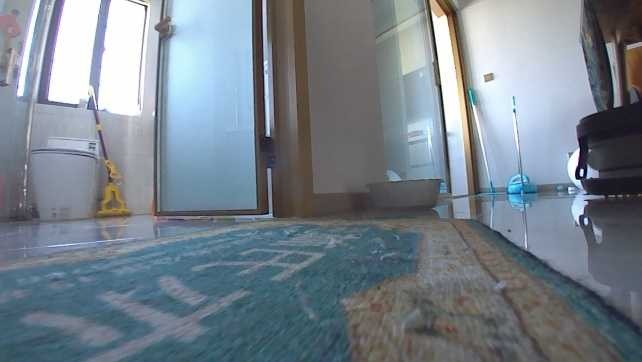blanket: (0, 211, 640, 361)
door_anno: (153, 0, 314, 215)
toilet: (28, 133, 105, 224)
